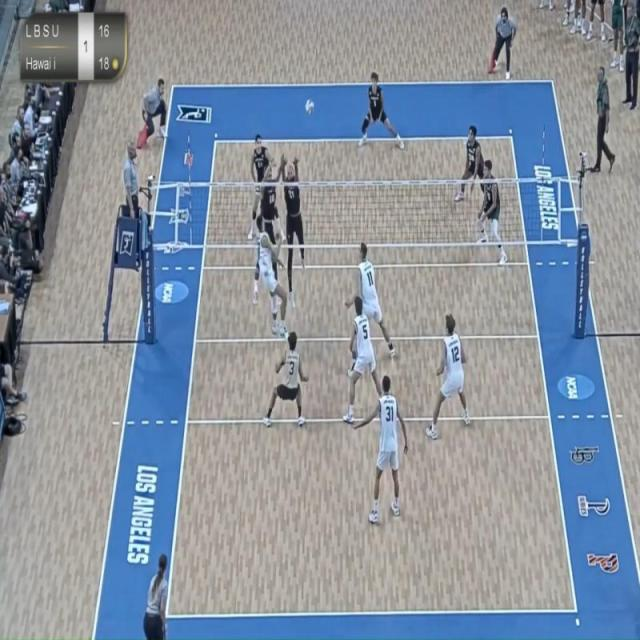volleyball: (302, 94, 318, 122)
